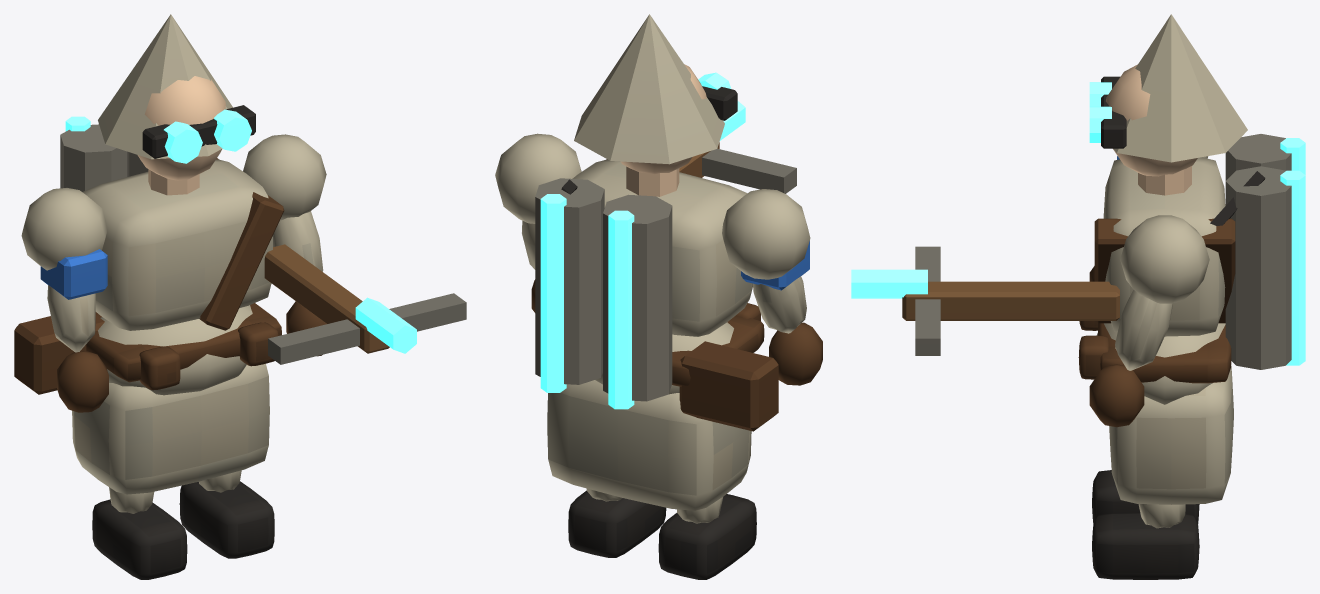
File: soigneur.glb
The picture shows the model from 3 angles, left to right: view 1: azimuth 30°, elevation 25°; view 2: azimuth 150°, elevation 25°; view 3: azimuth 270°, elevation 25°; orthographic projection. The views are drawn at different scales.
Parts seen in each view (by area): view 1: soigneur, arm_l, arm_r, leg_l, leg_r; view 2: soigneur, arm_l, leg_l, arm_r, leg_r; view 3: soigneur, arm_r, leg_r, leg_l.
Part boxes in pixels (box(x1,y1,x2,y2)): soigneur: box(14, 14, 466, 494); arm_l: box(21, 188, 108, 412); arm_r: box(243, 134, 326, 356); leg_l: box(92, 487, 187, 579); leg_r: box(179, 470, 274, 558); soigneur: box(535, 14, 809, 510); arm_l: box(722, 189, 822, 385); leg_l: box(658, 494, 756, 579); arm_r: box(495, 133, 581, 312); leg_r: box(568, 488, 666, 557); soigneur: box(851, 14, 1305, 504); arm_r: box(1089, 215, 1209, 427); leg_r: box(1092, 504, 1199, 579); leg_l: box(1092, 470, 1199, 523).
Size of the model in its own units: 0.5766 by 0.9241 by 0.71.
